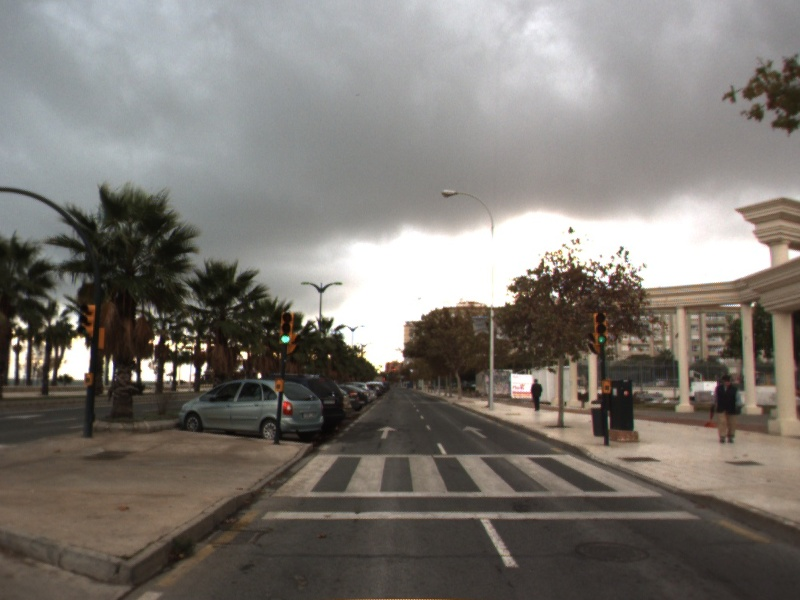STRAIGHT: (460, 424, 489, 440), (375, 424, 399, 441)
